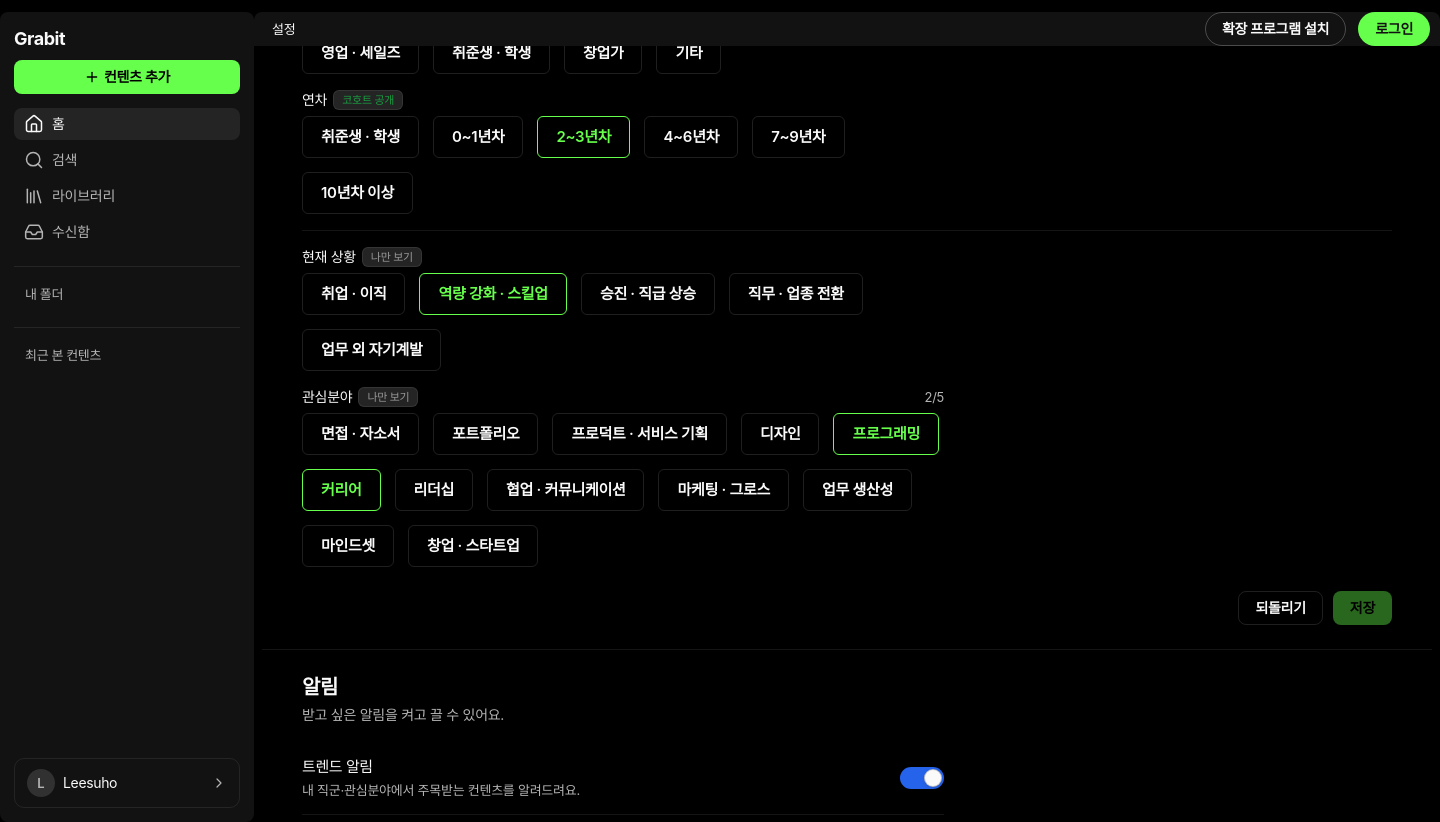
it: settings contract › 프로필 수정: 관심 5개 도달 → 미선택 칩 비활성(MAX 강제)
(page scrolled)
Note: 현재 2개 선택 → 3개 더 선택해 5개
Click the button "디자인" at (780, 434), box [741,413,819,455]
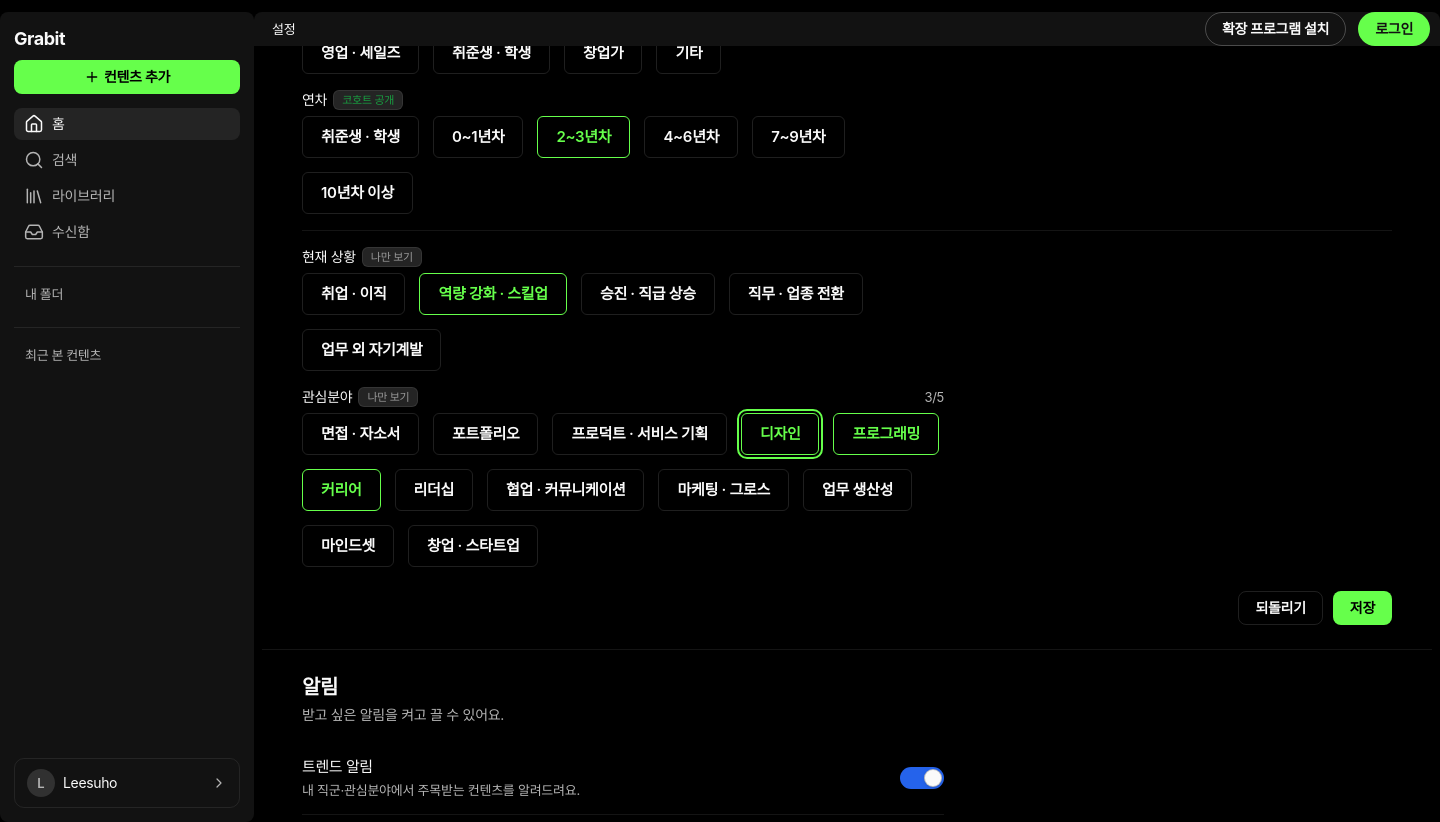
Click the button "리더십" at (434, 490), box [394,469,473,511]
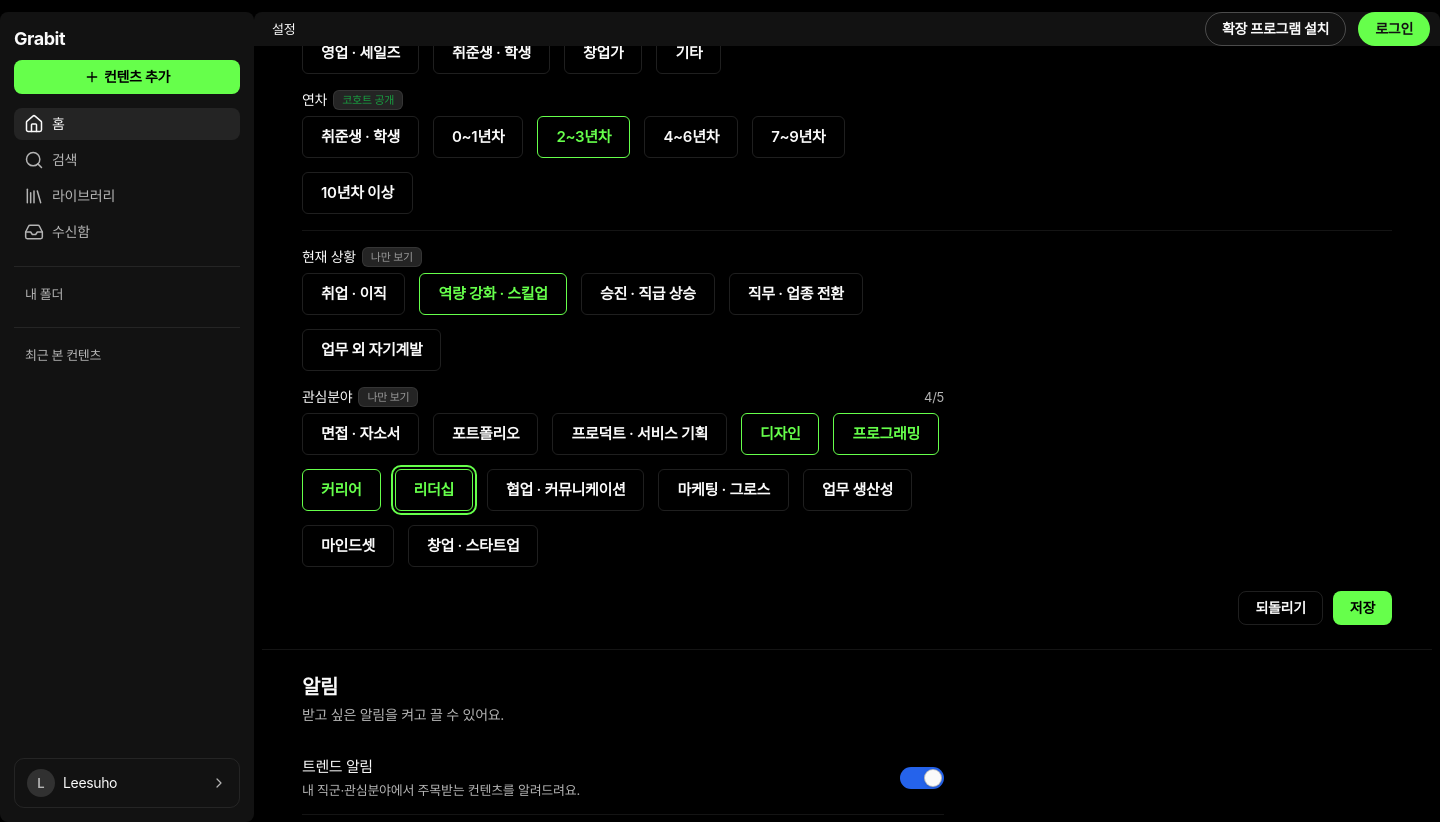
Click the button "마인드셋" at (348, 546), box [302,525,394,567]
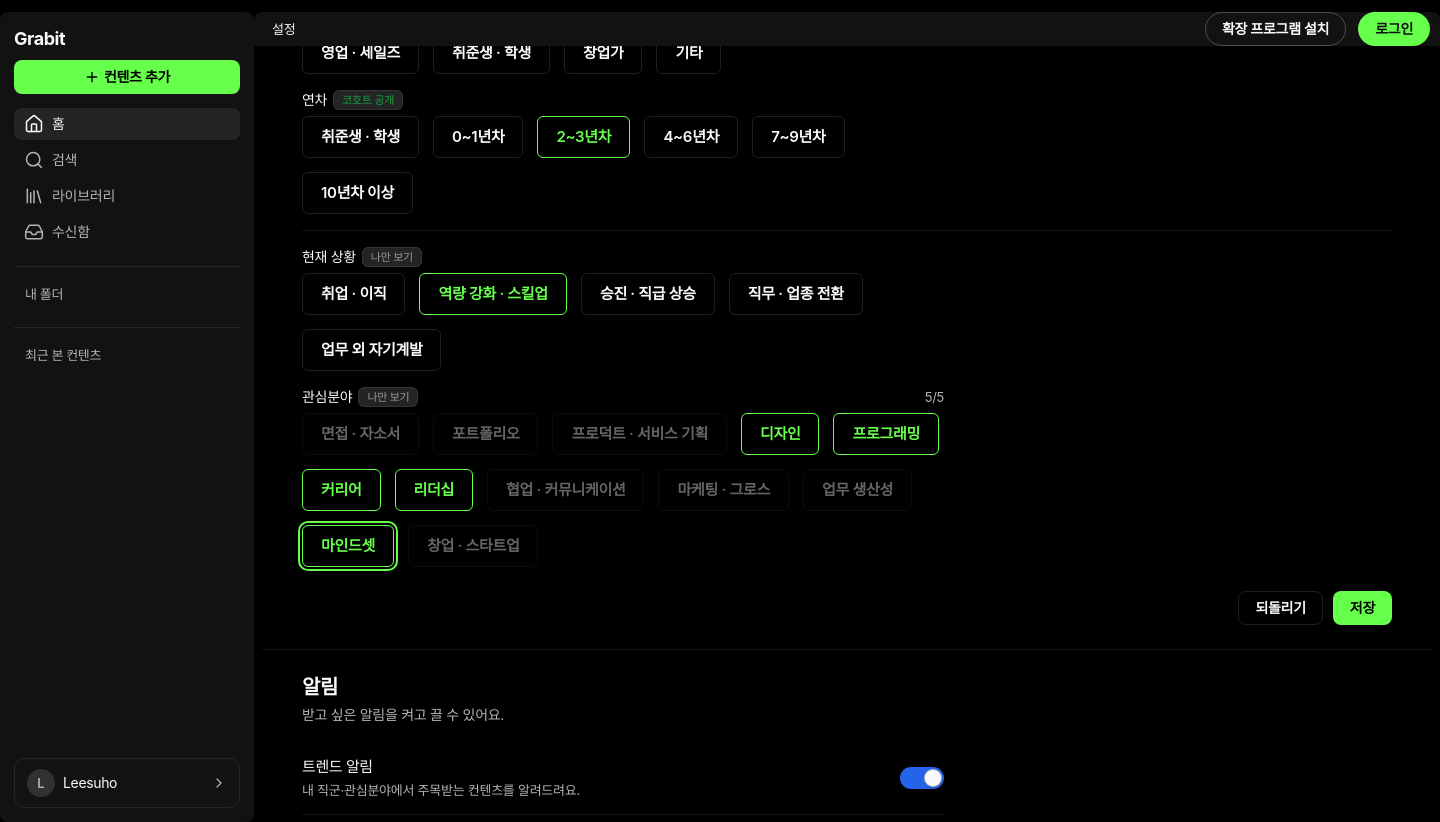
Check: the button "포트폴리오" is disabled, box [433,413,538,455]
